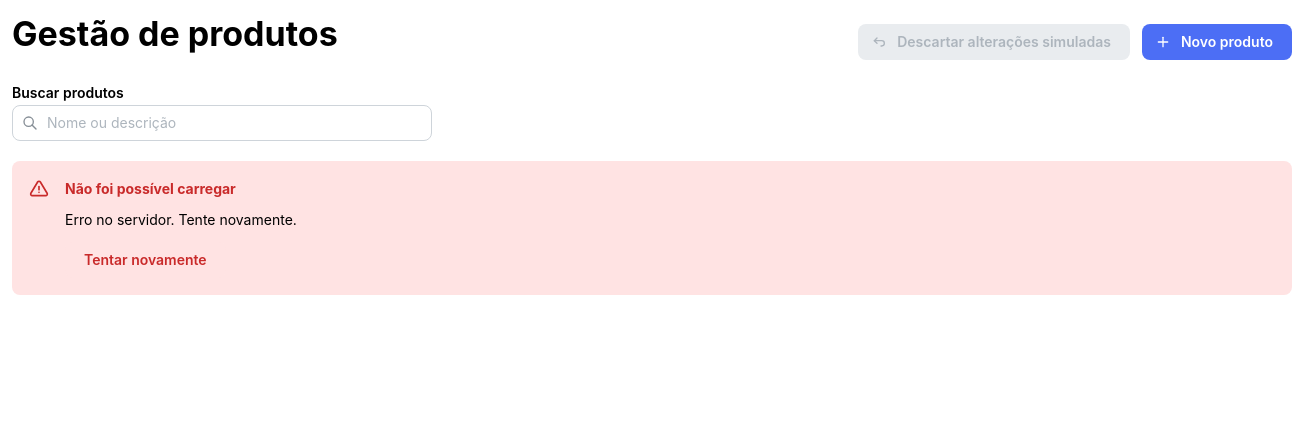
AdminProductsPage › na falha, mostra o erro e tenta de novo
Step 1. Click the button "Tentar novamente" → coordinates (145, 260), box [65, 242, 226, 278]
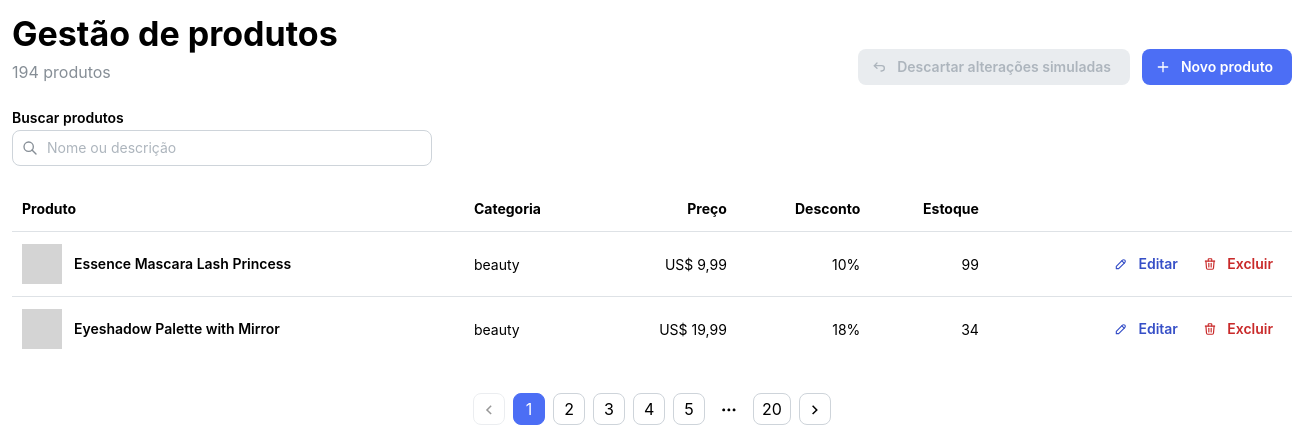
Expected: the table named "Produtos" is shown, [12, 186, 1291, 362]
